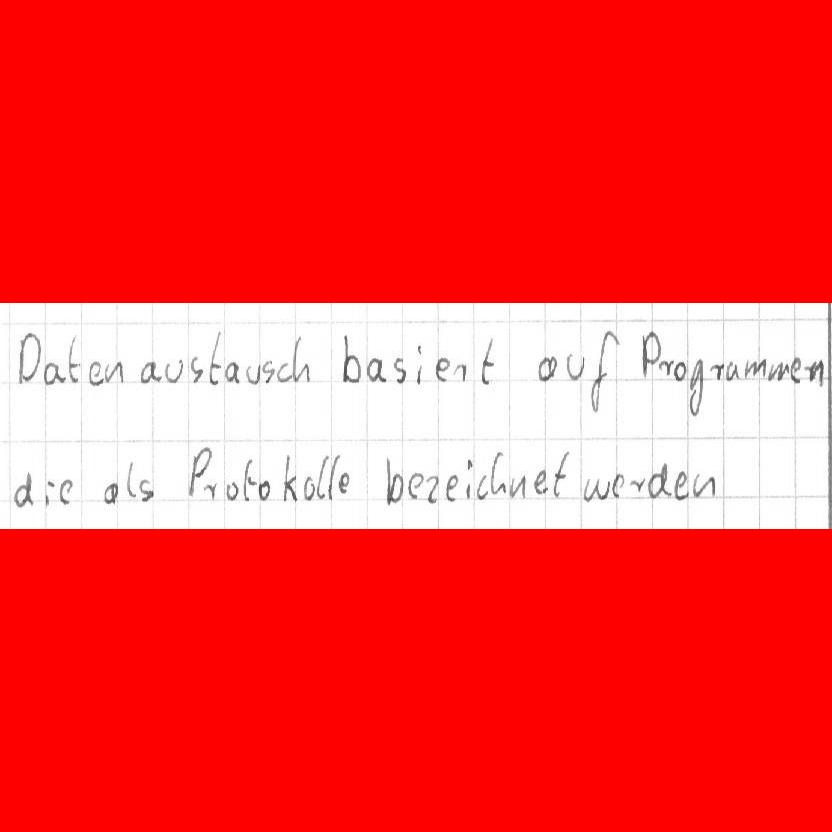Char: (589, 328, 618, 411), (187, 444, 213, 499), (17, 330, 39, 385), (646, 457, 672, 498), (687, 357, 705, 416), (340, 332, 360, 385), (640, 328, 660, 380), (550, 449, 571, 497), (385, 453, 405, 503), (291, 336, 311, 384), (477, 335, 496, 385), (279, 454, 298, 502), (206, 333, 222, 387), (12, 469, 34, 508), (63, 335, 80, 384), (318, 453, 336, 499), (564, 351, 587, 381), (489, 452, 505, 495), (535, 351, 557, 381), (691, 470, 713, 500), (583, 476, 607, 502), (123, 459, 137, 503), (242, 456, 255, 502), (406, 471, 424, 500), (164, 358, 184, 384), (367, 356, 386, 383), (444, 473, 461, 503), (138, 360, 159, 384), (673, 470, 689, 501), (413, 342, 424, 385), (58, 476, 74, 505), (507, 473, 527, 496), (744, 357, 764, 380), (610, 473, 626, 501), (223, 360, 240, 386), (670, 358, 687, 384), (425, 475, 440, 504), (106, 360, 124, 384), (224, 479, 242, 503), (88, 361, 106, 385), (137, 476, 154, 501), (302, 474, 317, 502), (768, 360, 787, 382), (43, 360, 59, 386), (533, 469, 549, 495), (101, 481, 119, 504), (463, 457, 473, 498), (434, 357, 451, 381), (257, 477, 273, 502), (392, 358, 408, 383), (721, 359, 740, 380), (790, 357, 804, 385), (190, 356, 204, 384), (42, 478, 56, 506), (336, 470, 351, 496), (810, 360, 825, 385), (245, 361, 261, 384), (262, 360, 276, 386), (276, 360, 291, 384), (475, 477, 489, 501), (454, 361, 469, 382), (628, 476, 643, 495)
